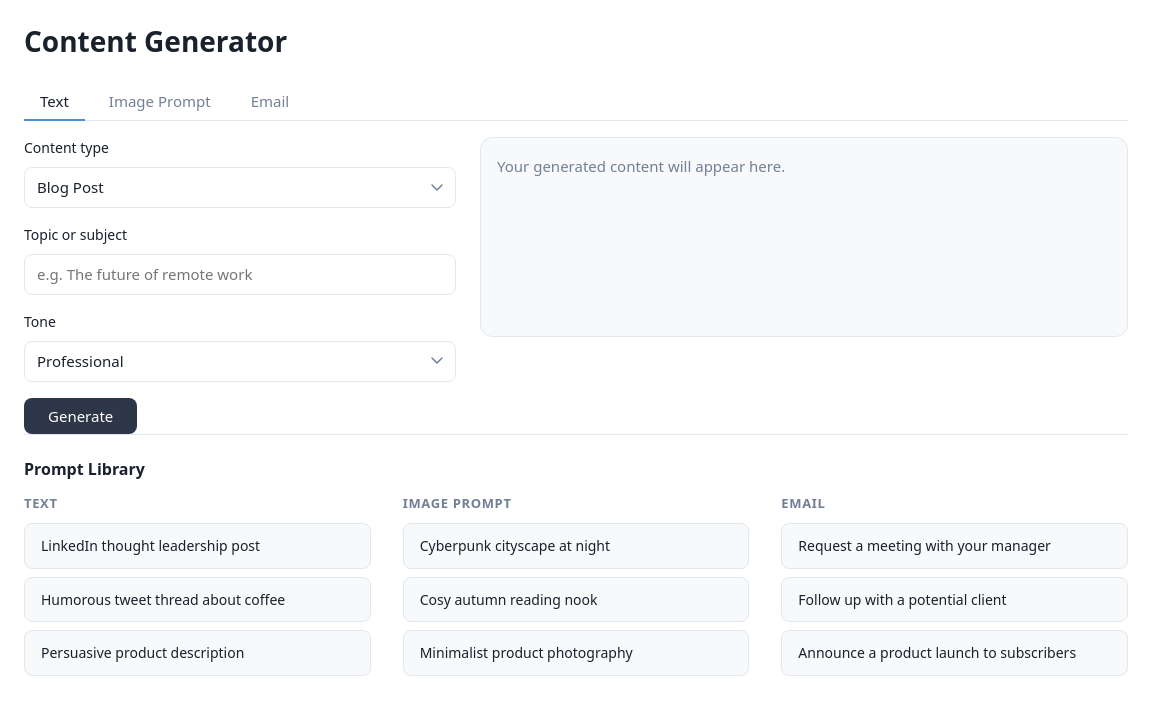
Suite 5: Network error displays correct message in Output Panel (Requirement 5.6) › displays the network error message in a role="alert" element
Type "Some topic" into the field labelled "Topic or subject" at (240,275), box [24,254,456,295]
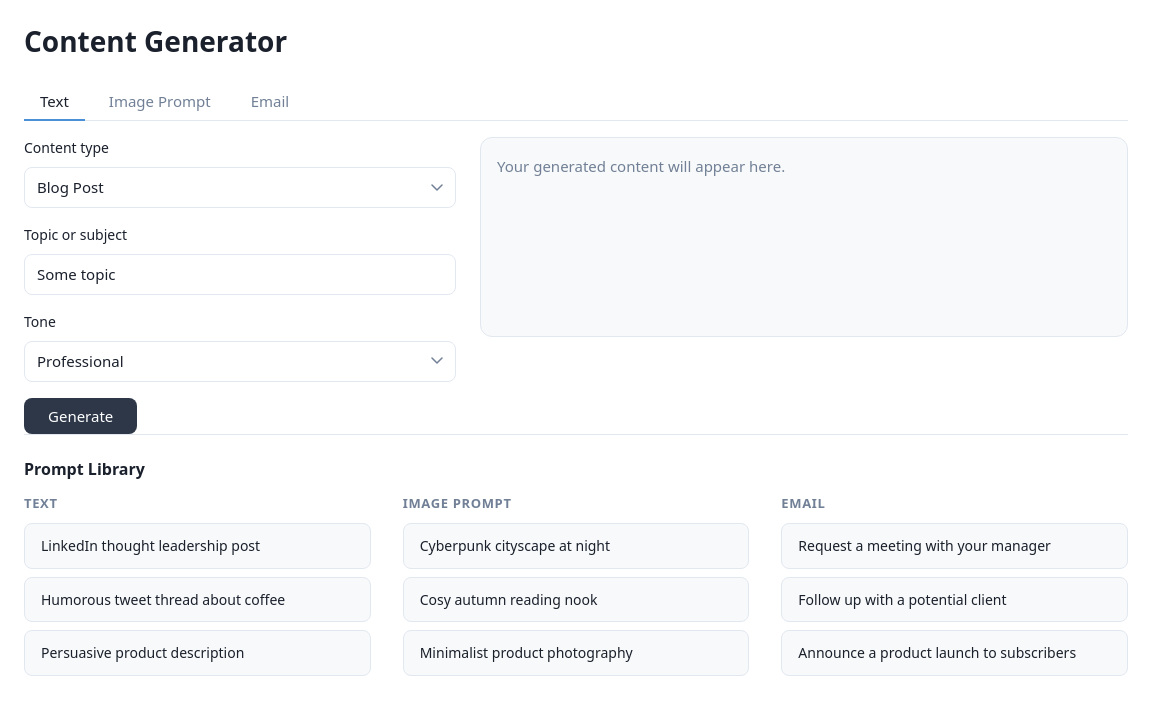
Click the submit button at (81,416), box [24,398,137,434]
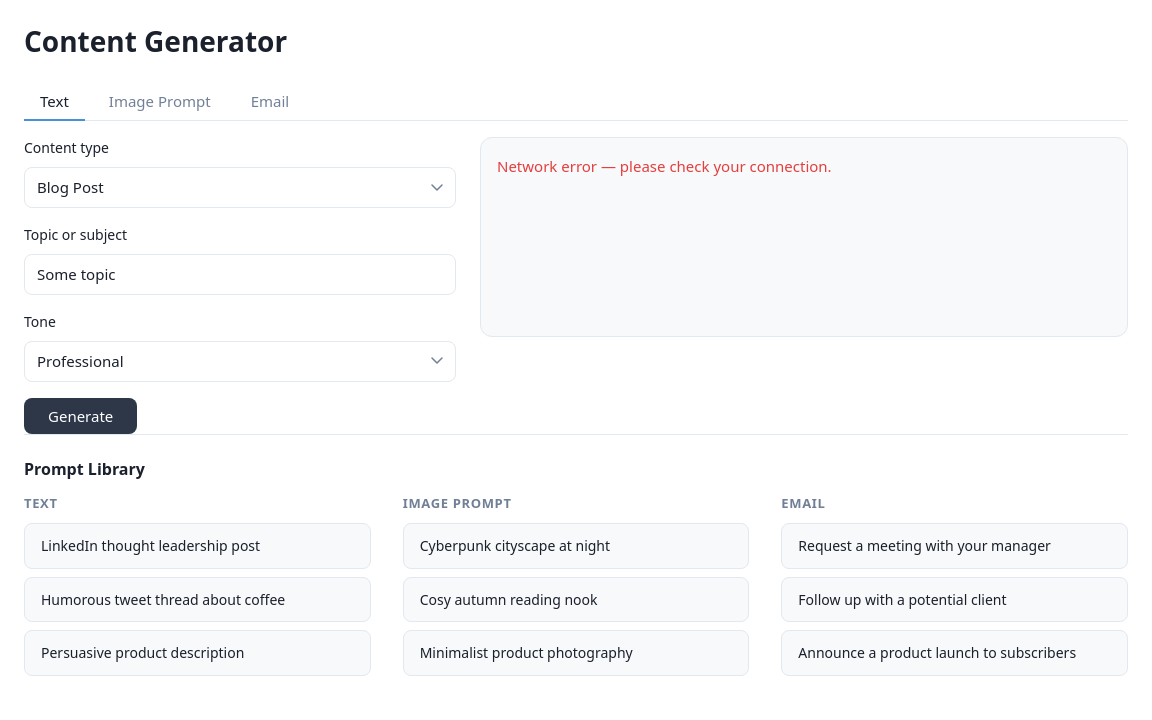
Check: the message reads "Network error — please check your connection.", box [497,156,832,176]
